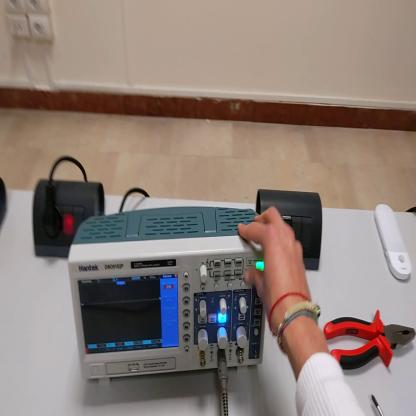hand: (238, 207, 312, 327)
oscilloscope: (70, 208, 267, 390)
pliers: (326, 315, 416, 376)
screwdriver-: (373, 395, 385, 415)
socket: (29, 176, 106, 257), (2, 175, 10, 234)
